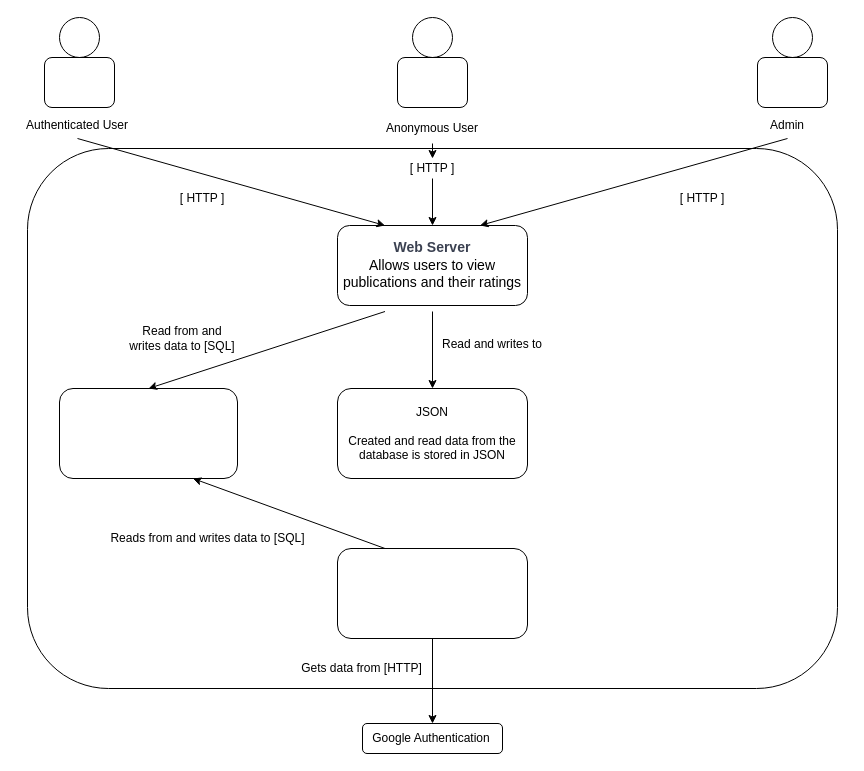
This 864x771 diagram has some shape labels left out. The centre of each missing label's shape, as x and y in pixels:
"Content Updater Update profiles and content on a regular basis" belongs at (x=432, y=593).
"Relational Database Stores: Borrowers, Publications and user accounts" belongs at (x=148, y=433).
